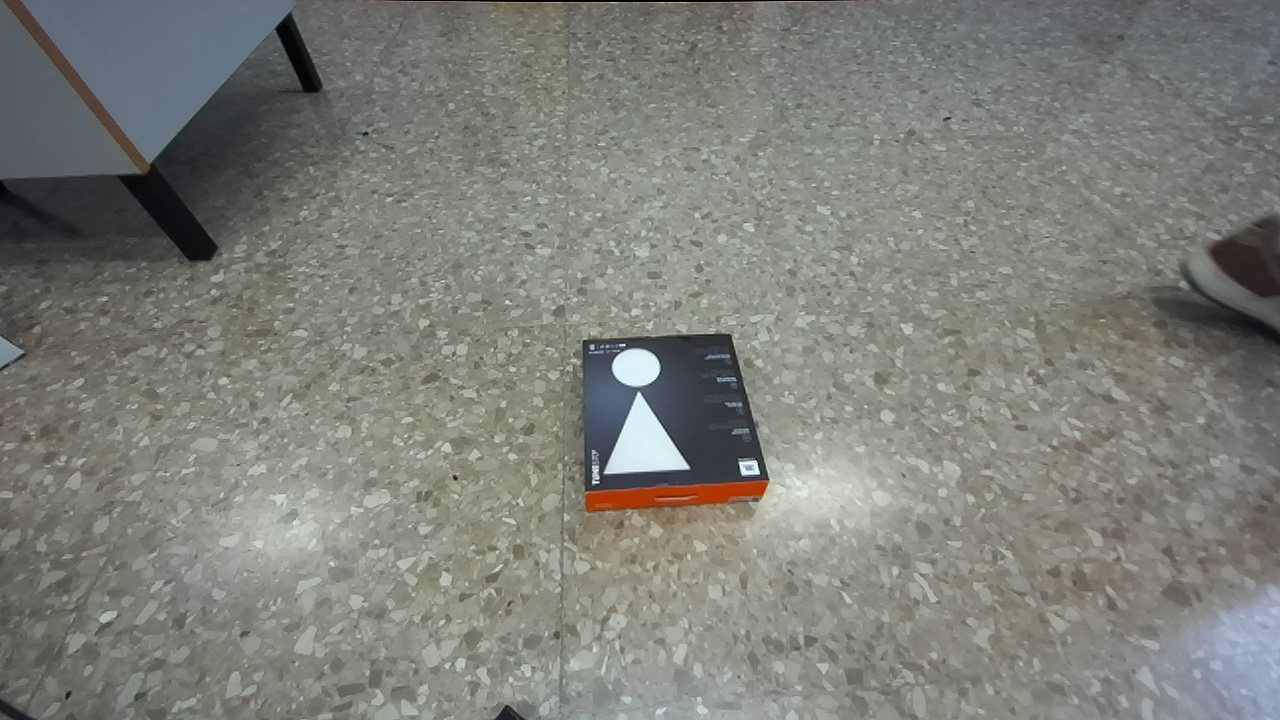caja_chasis: (580, 335, 769, 510)
